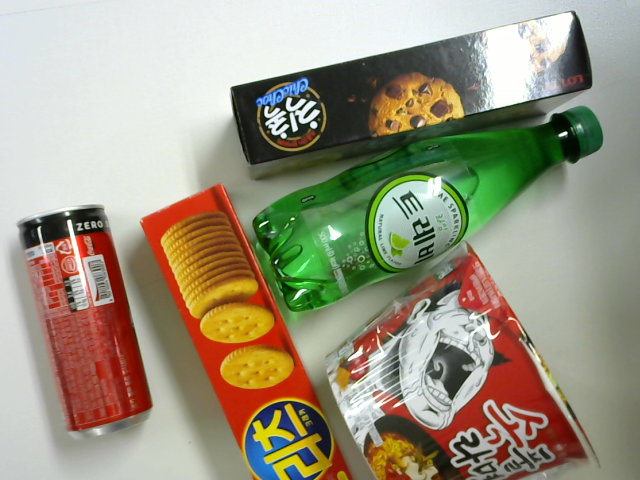Chicchok_Original_2400: (224, 1, 602, 169)
Coca_Cola_Zero_Can_250ml: (12, 198, 155, 446)
Hejangpul: (330, 239, 600, 480)
Ritz_Cracker: (138, 179, 359, 480)
Treviraim_500ml: (239, 100, 613, 318)
